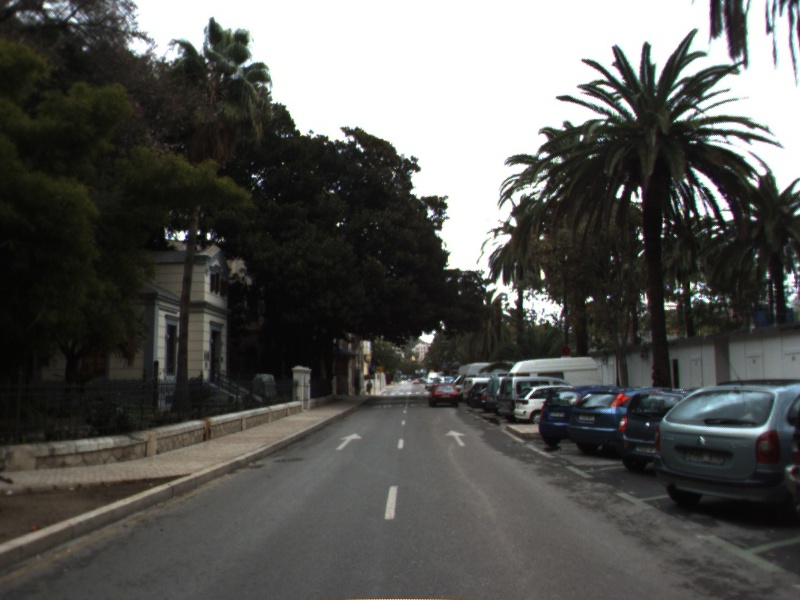STRAIGHT: (333, 431, 364, 452), (443, 428, 469, 448)
